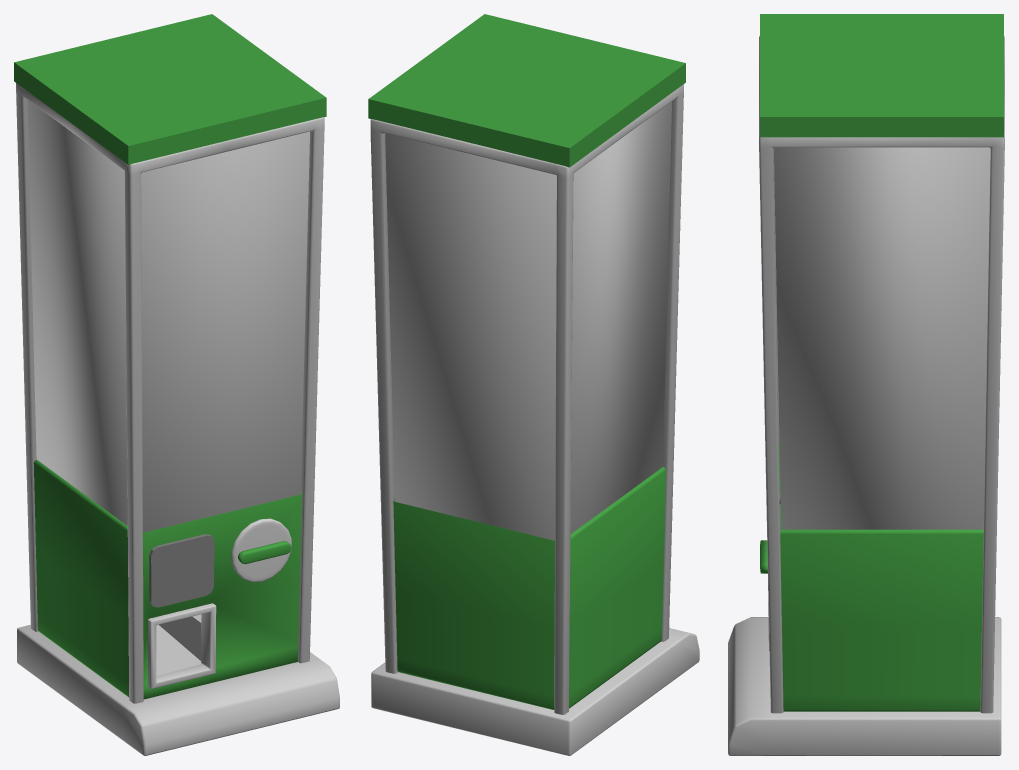
File: body.obj
The picture shows the model from 3 angles, left to right: view 1: azimuth 30°, elevation 25°; view 2: azimuth 150°, elevation 25°; view 3: azimuth 270°, elevation 25°; orthographic projection. The views are drawn at different scales.
Parts seen in each view (by area): view 1: glass, stand, body, lid, handle; view 2: glass, body, stand, lid; view 3: glass, body, stand, lid.
Part boxes in pixels (<box>): glass: <box>27,100,309,532</box>; stand: <box>16,83,339,755</box>; body: <box>33,459,301,699</box>; lid: <box>14,14,326,164</box>; handle: <box>231,518,291,582</box>; glass: <box>385,101,671,540</box>; body: <box>393,467,665,709</box>; stand: <box>370,84,699,755</box>; lid: <box>368,14,685,167</box>; glass: <box>774,147,990,529</box>; body: <box>768,443,983,711</box>; stand: <box>728,36,1004,755</box>; lid: <box>760,14,1003,137</box>.
Size of the model in its own units: 0.6254 by 1.81 by 0.7098.
